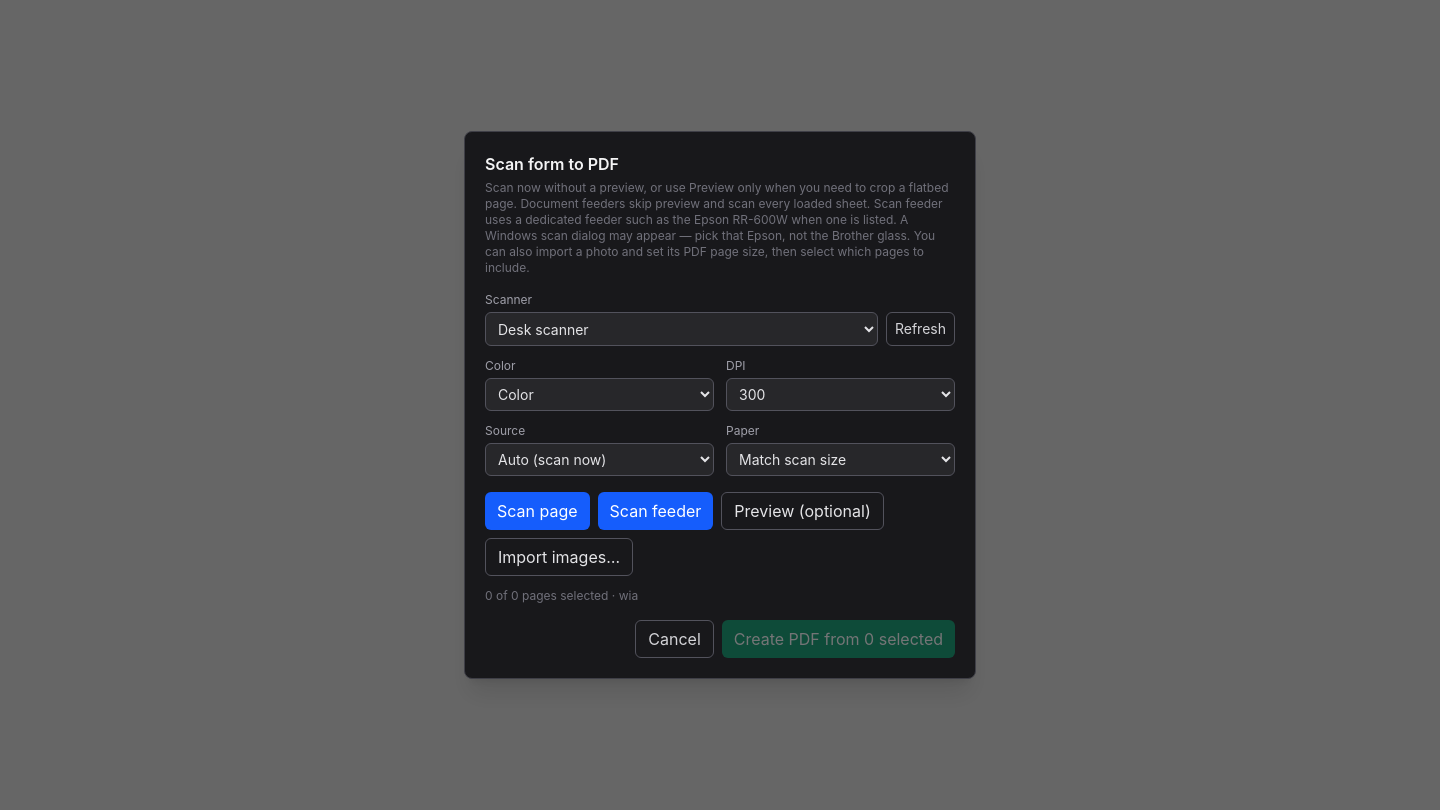
Test: ScanDialog › scans without requiring a preview first
Click the button with test id "scan-official".
click(537, 511)  # box [485,492,590,530]
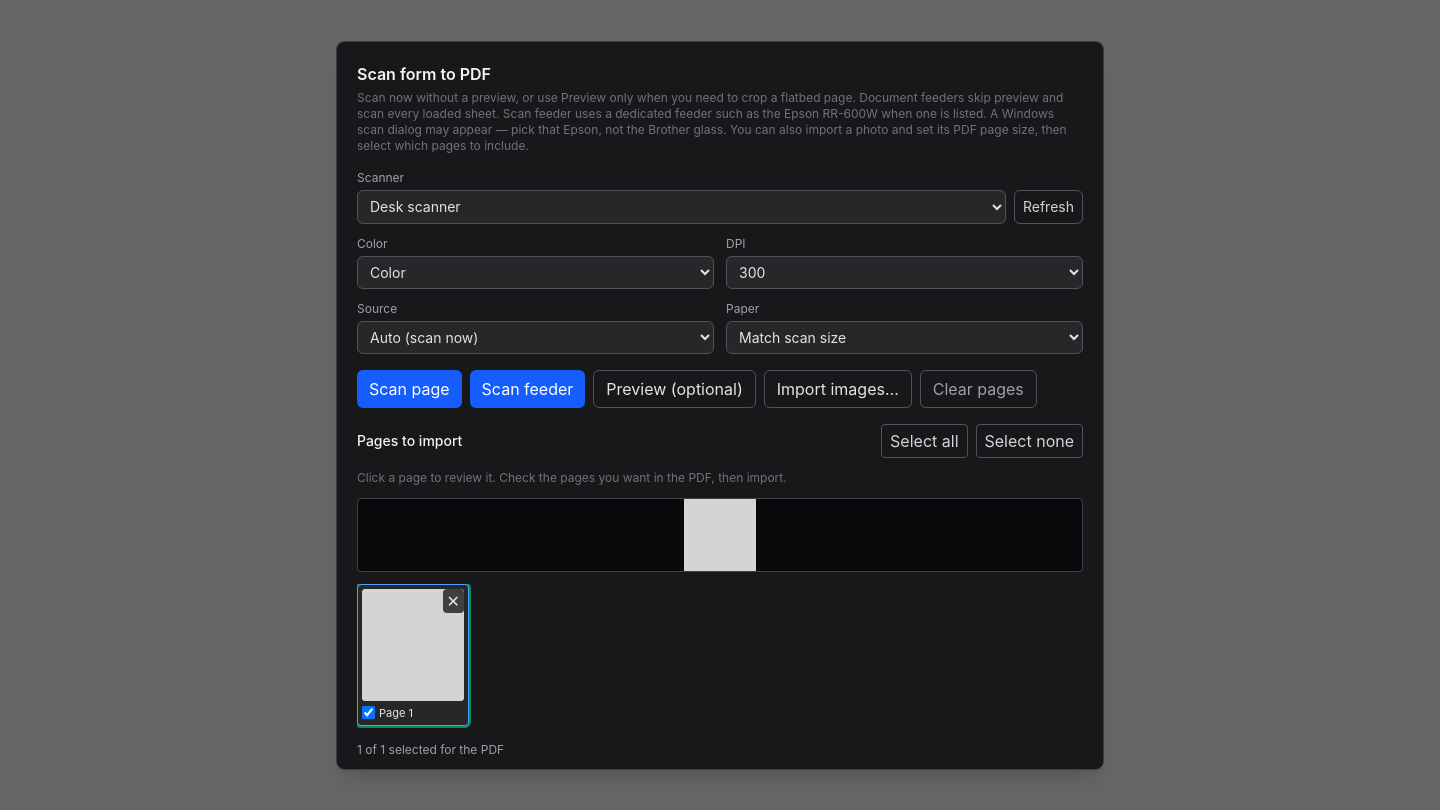
expect the element with test id "scan-page-picker" is shown: met, box [357,424,1083,758]
